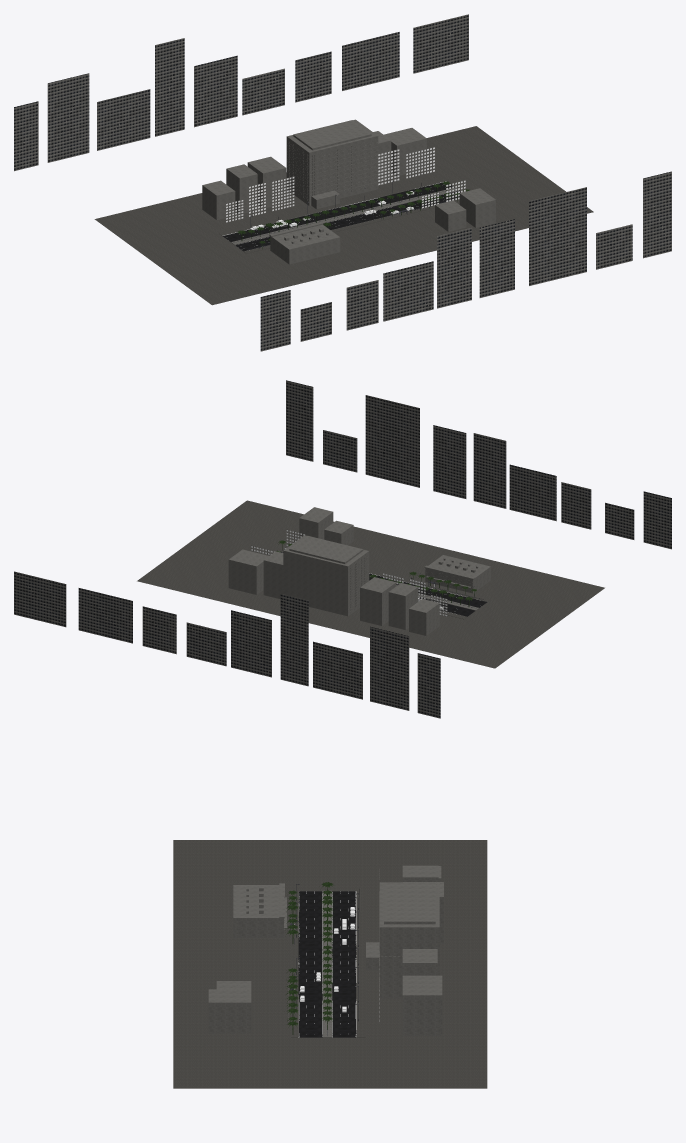
The model's file is awolowo_day.glb.
The picture shows the model from 3 angles, top to bottom: view 1: azimuth 30°, elevation 25°; view 2: azimuth 150°, elevation 25°; view 3: azimuth 270°, elevation 25°; orthographic projection. The views are drawn at different scales.
Parts seen in each view (by area): view 1: Distant_Skyline, Terrain, Midground_Buildings, BankOfIndustry, Road_Surface, NativeSupply, Pavement_Far, Median; view 2: Distant_Skyline, Terrain, Midground_Buildings, BankOfIndustry, NativeSupply, Road_Surface; view 3: Terrain, Road_Surface, Midground_Buildings, BankOfIndustry, NativeSupply, Pavement_Far, Median, Pavement_Near.
Boxes of the visible parts, x1,y1,x2,y2 form: Distant_Skyline: (14, 14, 671, 351); Terrain: (94, 126, 593, 305); Midground_Buildings: (202, 128, 495, 231); BankOfIndustry: (286, 119, 378, 209); Road_Surface: (222, 181, 460, 251); NativeSupply: (269, 222, 340, 264); Pavement_Far: (219, 178, 446, 235); Median: (231, 187, 458, 244); Distant_Skyline: (14, 380, 671, 718); Terrain: (137, 500, 604, 668); Midground_Buildings: (228, 507, 447, 635); BankOfIndustry: (283, 535, 369, 616); NativeSupply: (424, 555, 490, 593); Road_Surface: (280, 552, 487, 616); Terrain: (173, 840, 487, 1088); Road_Surface: (298, 891, 356, 1037); Midground_Buildings: (208, 865, 443, 1035); BankOfIndustry: (366, 882, 439, 998); NativeSupply: (233, 883, 286, 937); Pavement_Far: (356, 891, 365, 1037); Median: (322, 890, 332, 1037); Pavement_Near: (291, 891, 298, 1037).
Bounding box in the file's own units: 304 × 58.56 × 285.
12 materials, 7 textured.
